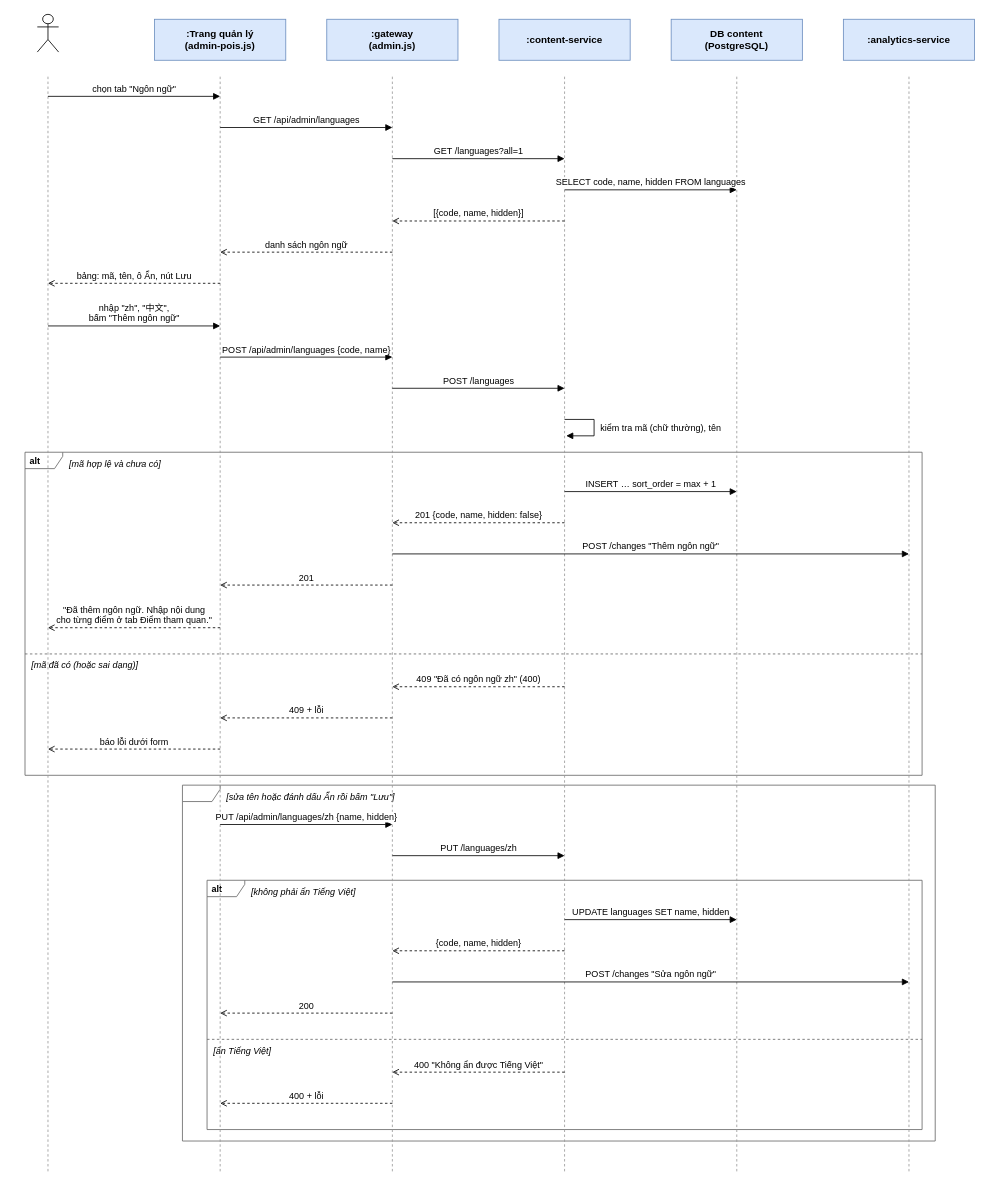
Some shapes in this 989 by 1189 pixel diagram are drawn without their labels. Here are the shapes that lost their labels. From the top down, the box of each, then its label:
(36, 14, 59, 52): Người quản lý
(182, 784, 935, 1141): opt
